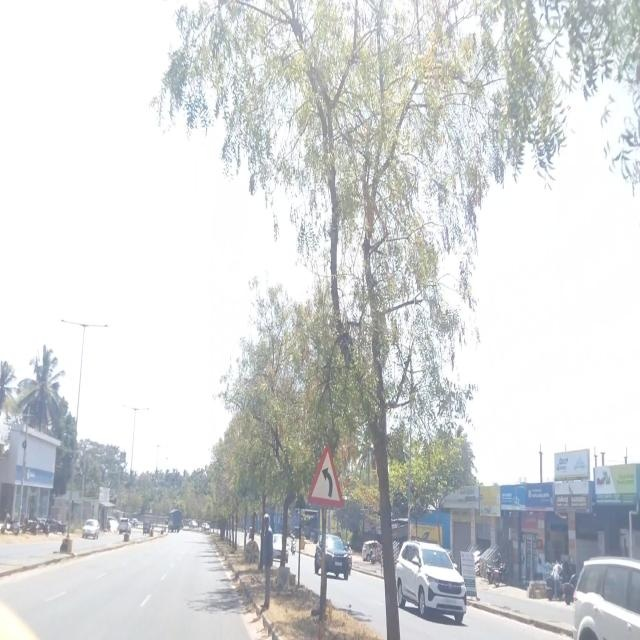bien_nguy_hiem: (308, 445, 344, 507)
